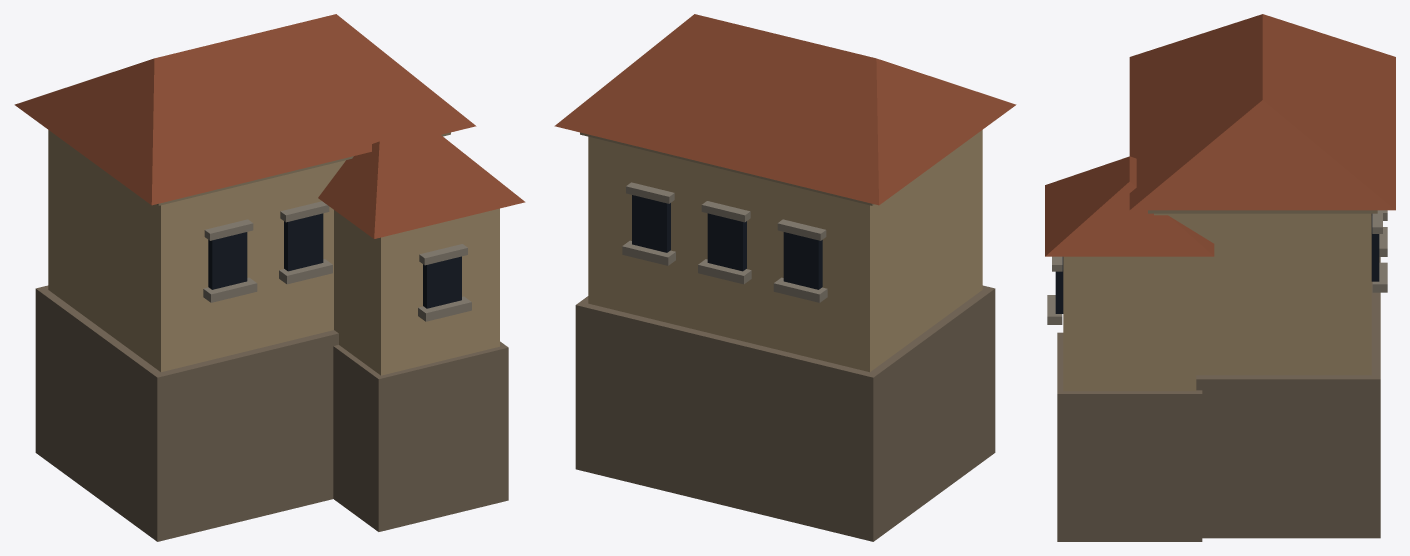
File: bldg_med_villa.glb
The picture shows the model from 3 angles, left to right: view 1: azimuth 30°, elevation 25°; view 2: azimuth 150°, elevation 25°; view 3: azimuth 270°, elevation 25°; orthographic projection. The views are drawn at different scales.
Parts seen in each view (by area): view 1: MedVilla; view 2: MedVilla; view 3: MedVilla.
Boxes of the visible parts, bbox=[...] form: MedVilla: bbox=[14, 14, 525, 541]; MedVilla: bbox=[554, 14, 1016, 541]; MedVilla: bbox=[1045, 14, 1395, 541].
Bounding box in the file's own units: 1.22 × 1.5 × 1.16.
